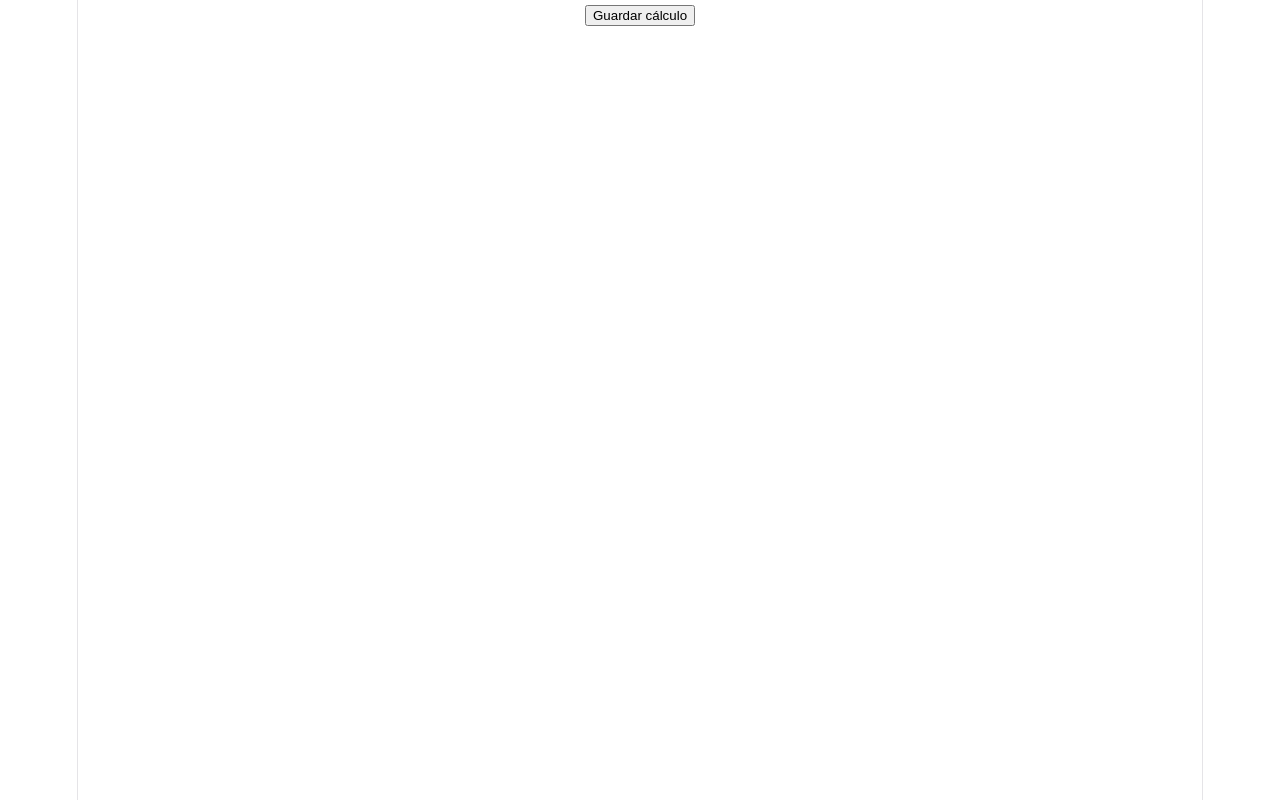
it: GuardarCalculo › deshabilita el botón mientras guarda
The image size is (1280, 800).
Click the button "Guardar cálculo" at point(640, 16), box [585,5,695,26]
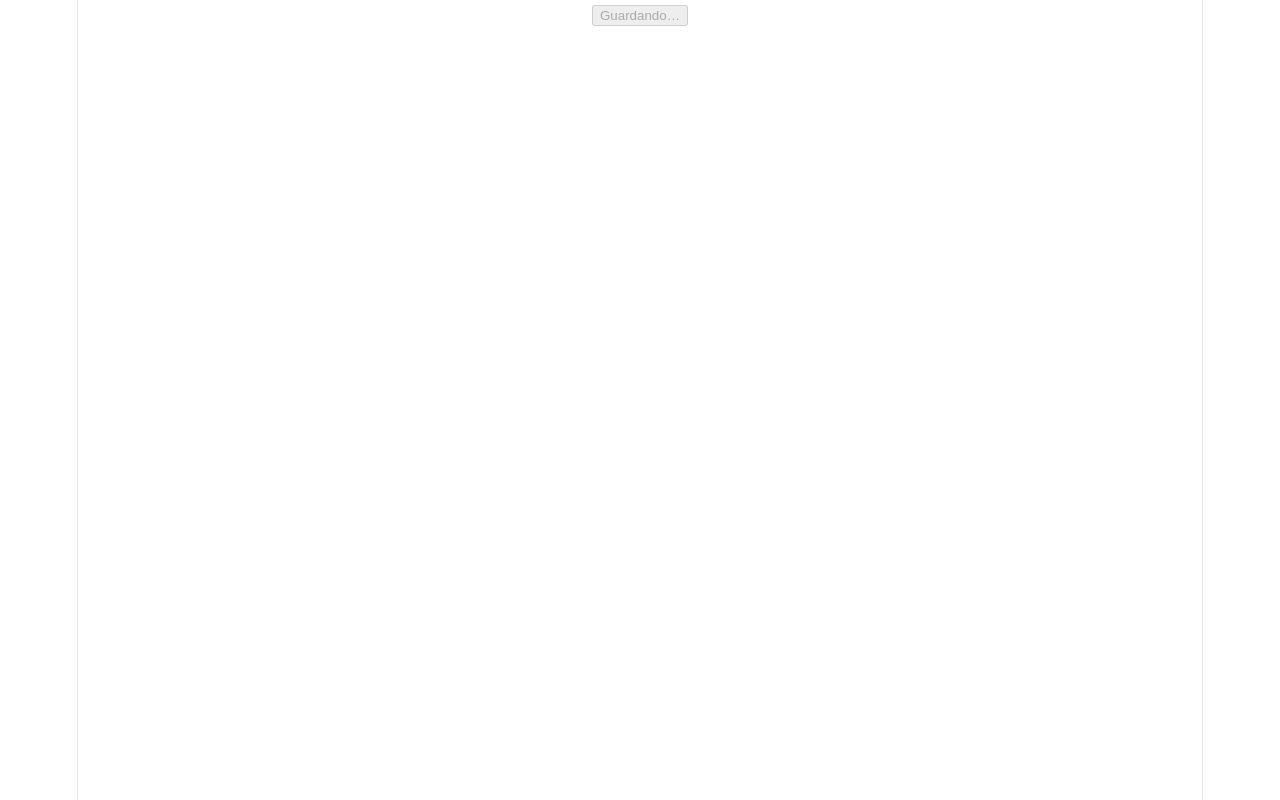
Check: the button "Guardando…" is disabled, box [592,5,688,26]
